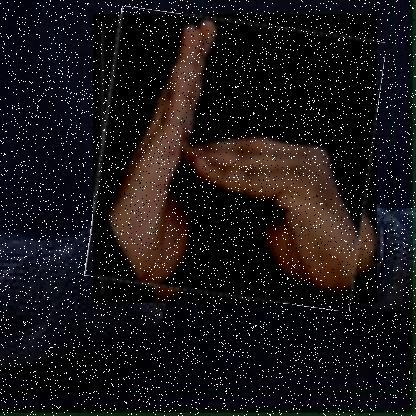Z: (93, 14, 378, 304)
